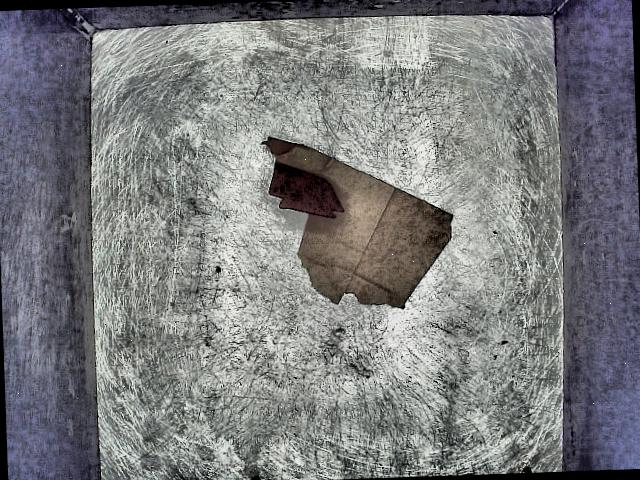Paper: (232, 114, 489, 336)
